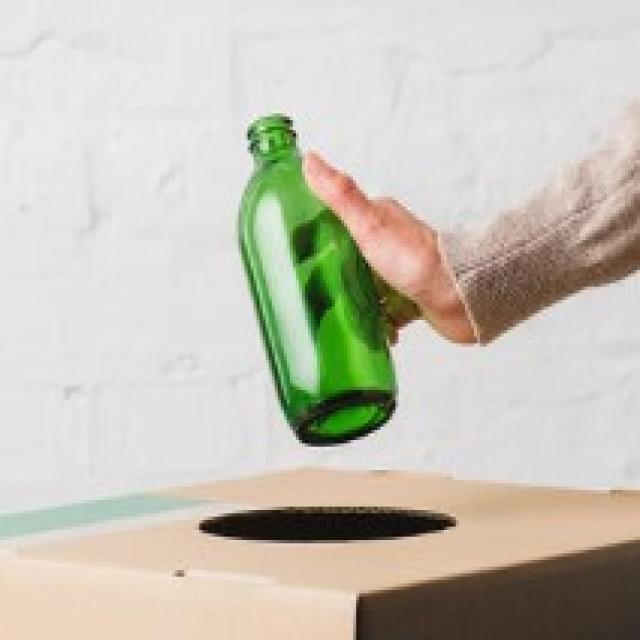electronic: (230, 106, 408, 453)
